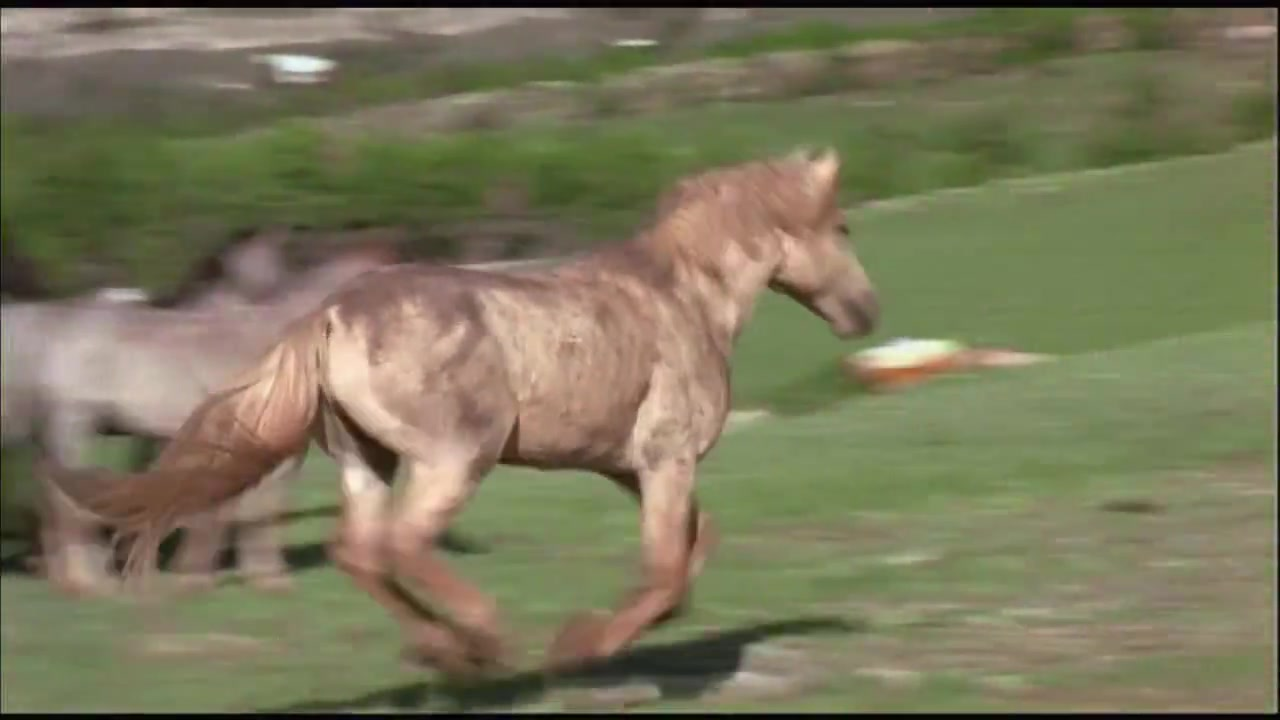horse: (39, 143, 884, 691)
